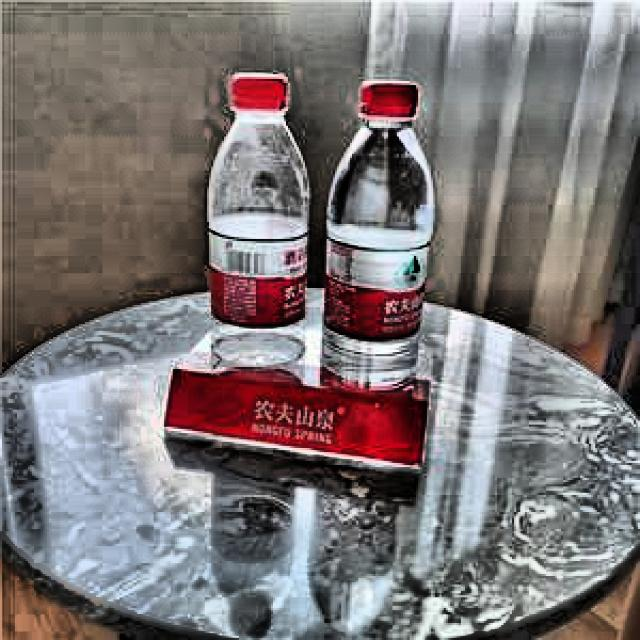Bottles: (307, 62, 459, 414), (181, 59, 314, 422)
